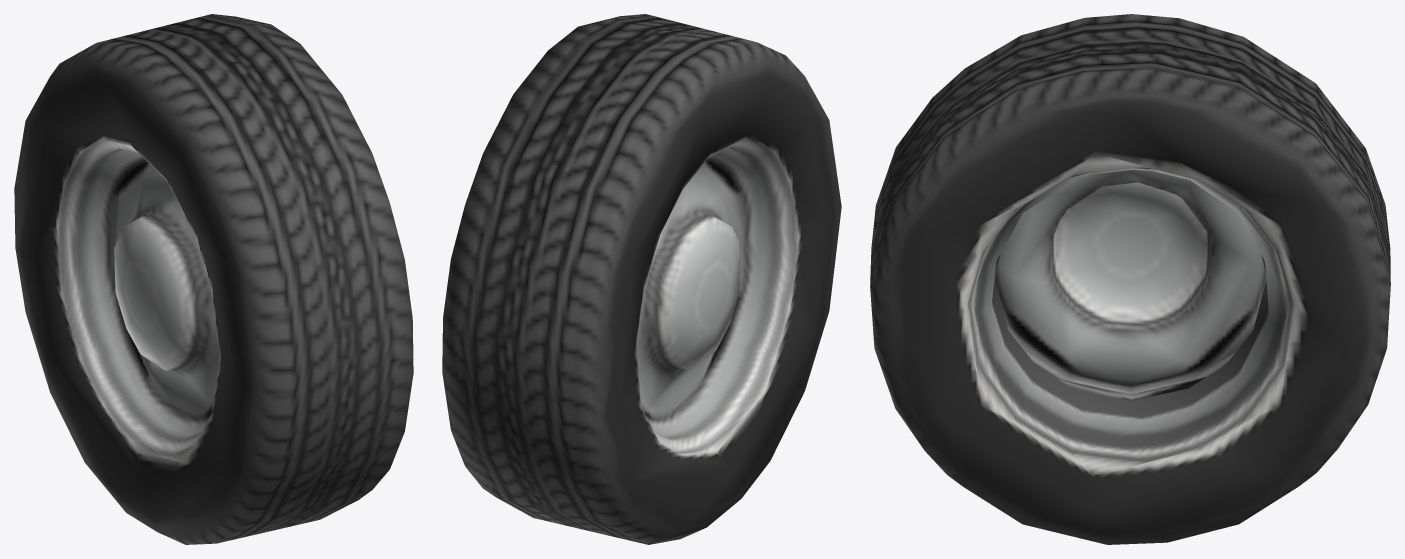
File: wheel_d3.obj
3 renders of one model, left to right at view 1: azimuth 30°, elevation 25°; view 2: azimuth 150°, elevation 25°; view 3: azimuth 270°, elevation 25°, orthographic.
Parts seen in each view (by area): view 1: Body.001; view 2: Body.001; view 3: Body.001.
Part boxes in pixels (<box>): Body.001: <box>14,14,413,544</box>; Body.001: <box>442,14,841,544</box>; Body.001: <box>870,14,1390,544</box>.
Size of the model in its own units: 24.5 by 69.83 by 69.76.
1 material, 1 textured.
